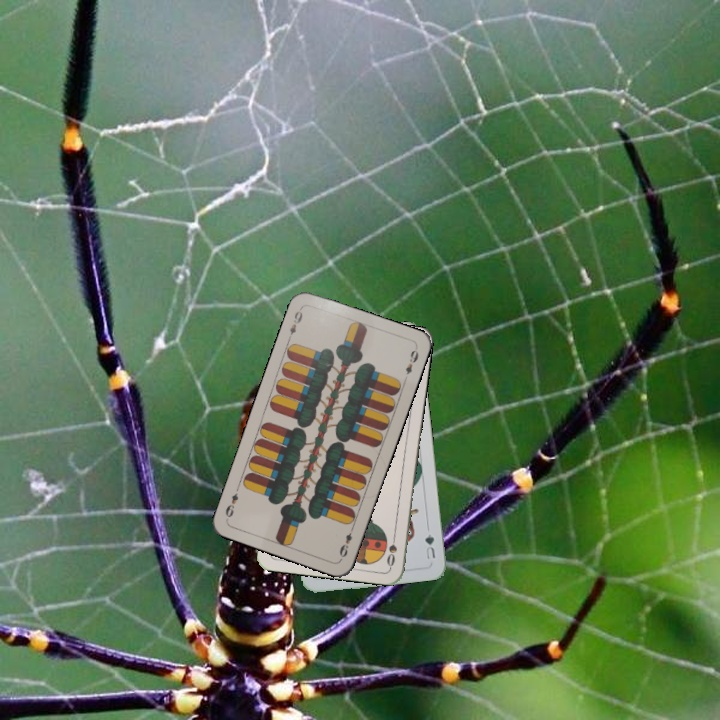E9: (335, 522, 357, 560), (284, 304, 305, 343)
GU: (421, 523, 438, 562)
SO: (383, 529, 399, 569)
